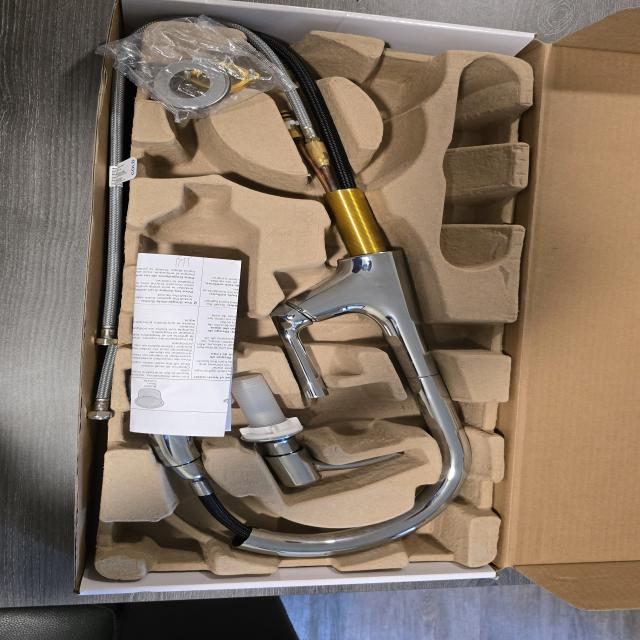1o: (136, 29, 469, 559)
2: (224, 373, 405, 489)
3m: (130, 182, 257, 355)
4m: (442, 57, 521, 271)
5m: (364, 64, 436, 116)
6: (97, 14, 296, 123)
7m: (135, 126, 276, 193)
8: (130, 250, 246, 437)
